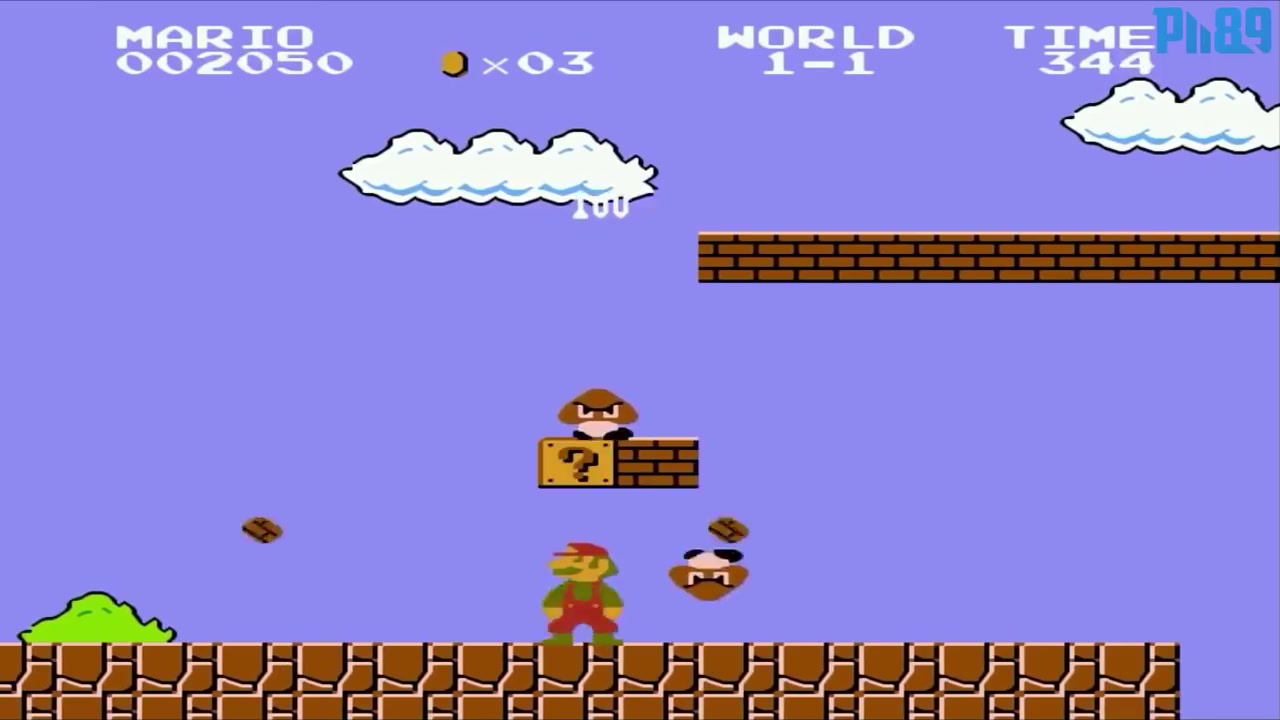mario: (533, 539, 627, 647)
